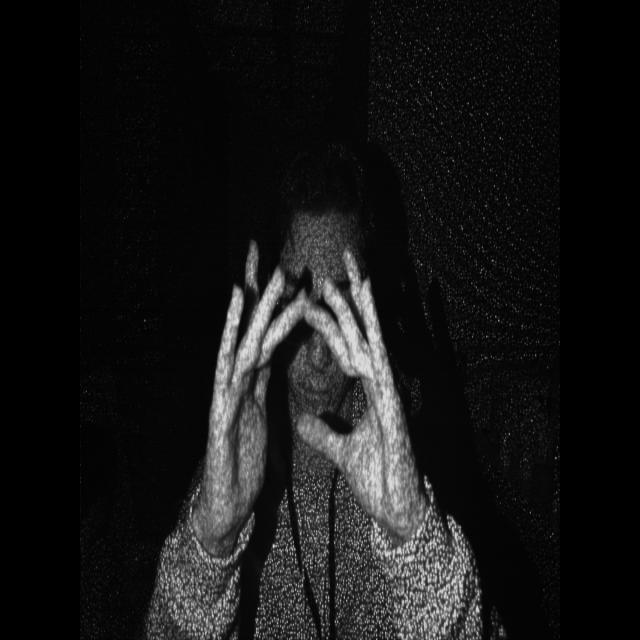REACH: (203, 228, 431, 548)
